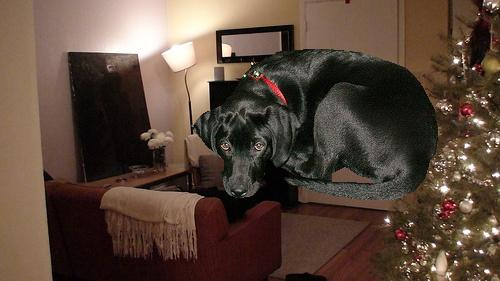tampered: (192, 50, 438, 200)
